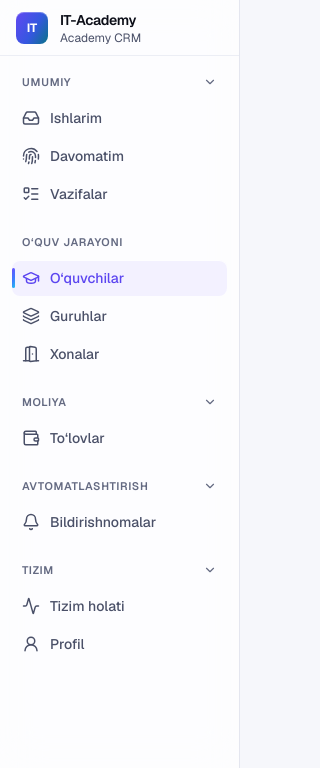
Test: Sidebar › bo‘lim yig‘iladi va tanlov saqlanadi; joriy sahifa bo‘limi yopilmaydi
The image size is (320, 768).
Click the button "Moliya" at x=120, y=402, box [12, 388, 227, 416]
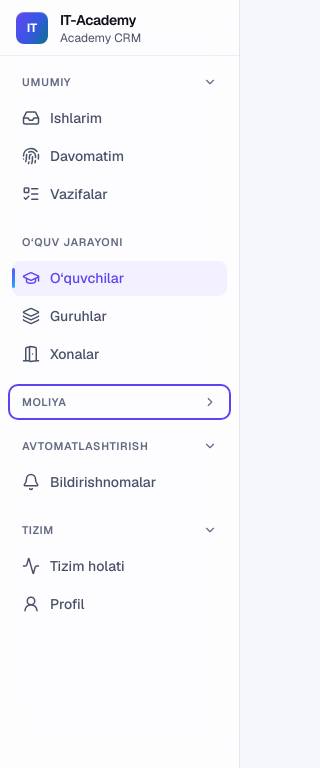
Check: the button "Moliya" is collapsed
Check: the link "To‘lovlar" is gone
Click the button "Moliya" at x=120, y=402, box [12, 388, 227, 416]
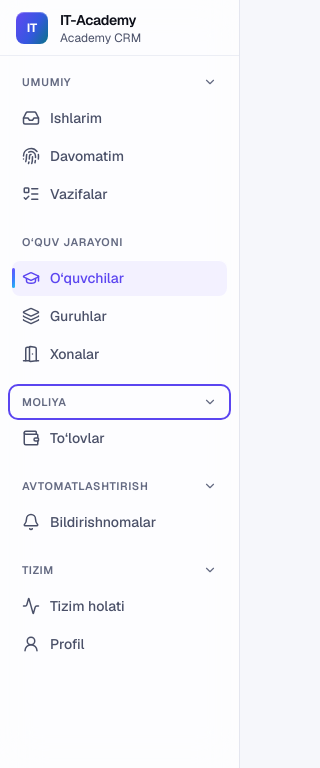
Check: the button "O‘quv jarayoni" is disabled, box [12, 228, 227, 256]
Check: the link "To‘lovlar" is shown, box [22, 429, 105, 447]
